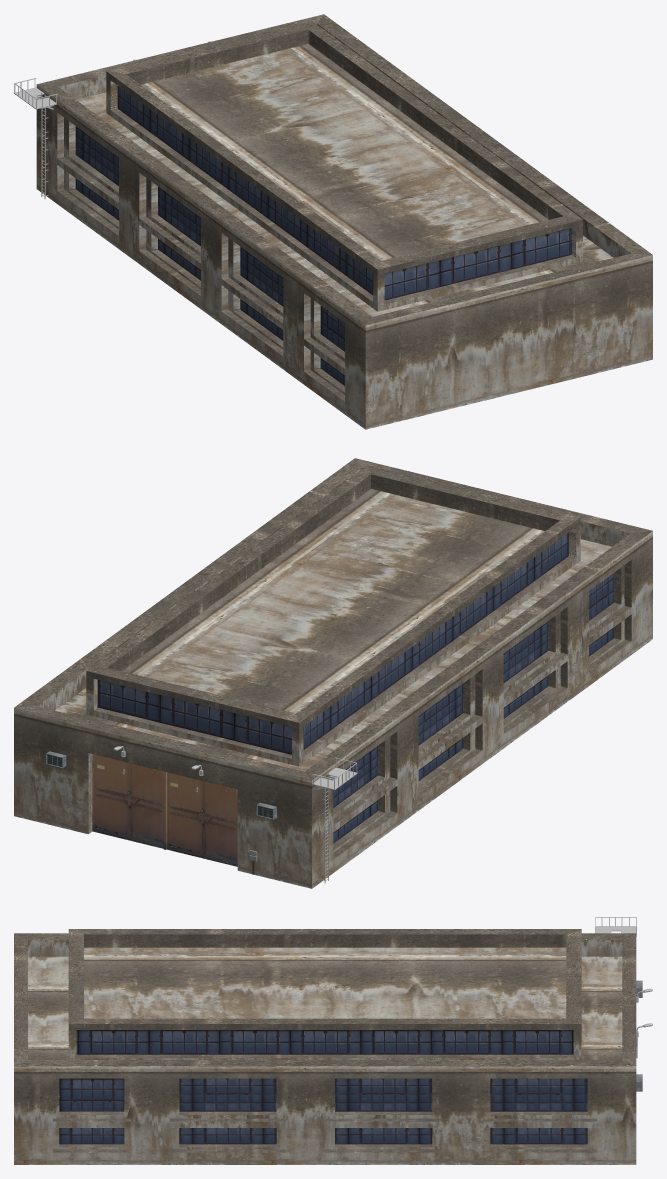
The model's file is building2_lod0.fbx.
3 views of the same model, one above another, from view 1: azimuth 30°, elevation 25°; view 2: azimuth 150°, elevation 25°; view 3: azimuth 270°, elevation 25° (orthographic). The views are drawn at different scales.
Parts seen in each view (by area): view 1: Mesh Object, Mesh Object_ncl1_1; view 2: Mesh Object, Mesh Object_ncl1_1; view 3: Mesh Object, Mesh Object_ncl1_1.
Boxes of the visible parts, x1,y1,x2,y2 form: Mesh Object: (36,14,652,429); Mesh Object_ncl1_1: (14,41,211,199); Mesh Object: (14,458,652,888); Mesh Object_ncl1_1: (46,746,357,883); Mesh Object: (14,929,636,1164); Mesh Object_ncl1_1: (595,917,652,1091).
Size of the model in its own units: 24.79 by 9.89 by 46.79.
